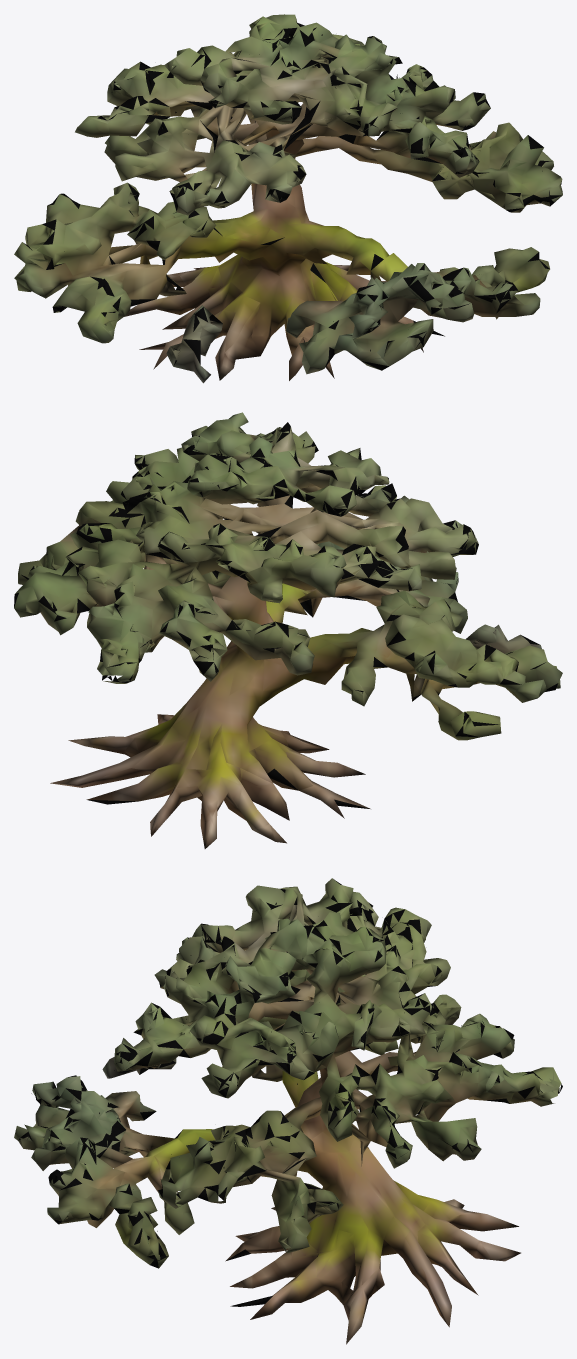
Rendered from tree2.glb.
3 views of the same model, one above another, from view 1: azimuth 30°, elevation 25°; view 2: azimuth 150°, elevation 25°; view 3: azimuth 270°, elevation 25° (orthographic). The views are drawn at different scales.
Visible parts, largest first — view 1: MV_tree2; view 2: MV_tree2; view 3: MV_tree2.
Boxes of the visible parts, x1=… form: MV_tree2: x1=14, y1=14, x2=562, y2=383; MV_tree2: x1=14, y1=412, x2=562, y2=848; MV_tree2: x1=14, y1=878, x2=562, y2=1344.
Size of the model in its own units: 8.42 by 5 by 7.28.
1 material, 1 textured.
